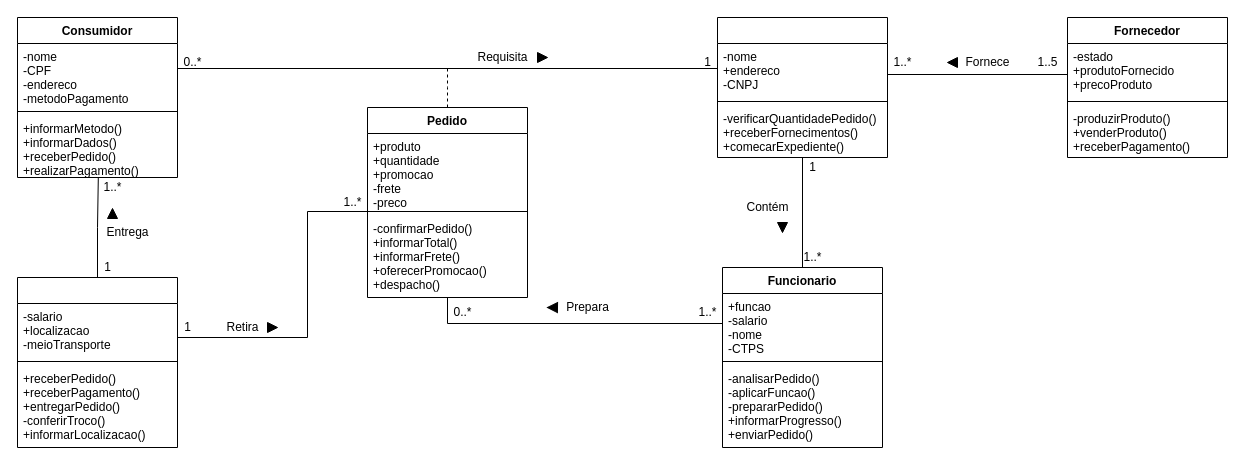
The diagram is 1245 pixels wide and 468 high, and some of its shapes have lost their labels. Here are the shapes that lost their labels. From the top down, the box of each, then its label:
(716, 16, 888, 158): Estabelecimento
(16, 276, 178, 448): Entregador
